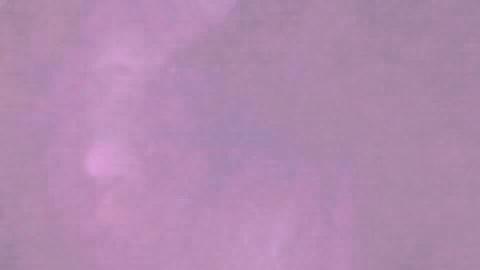tomato: (403, 73, 478, 268)
